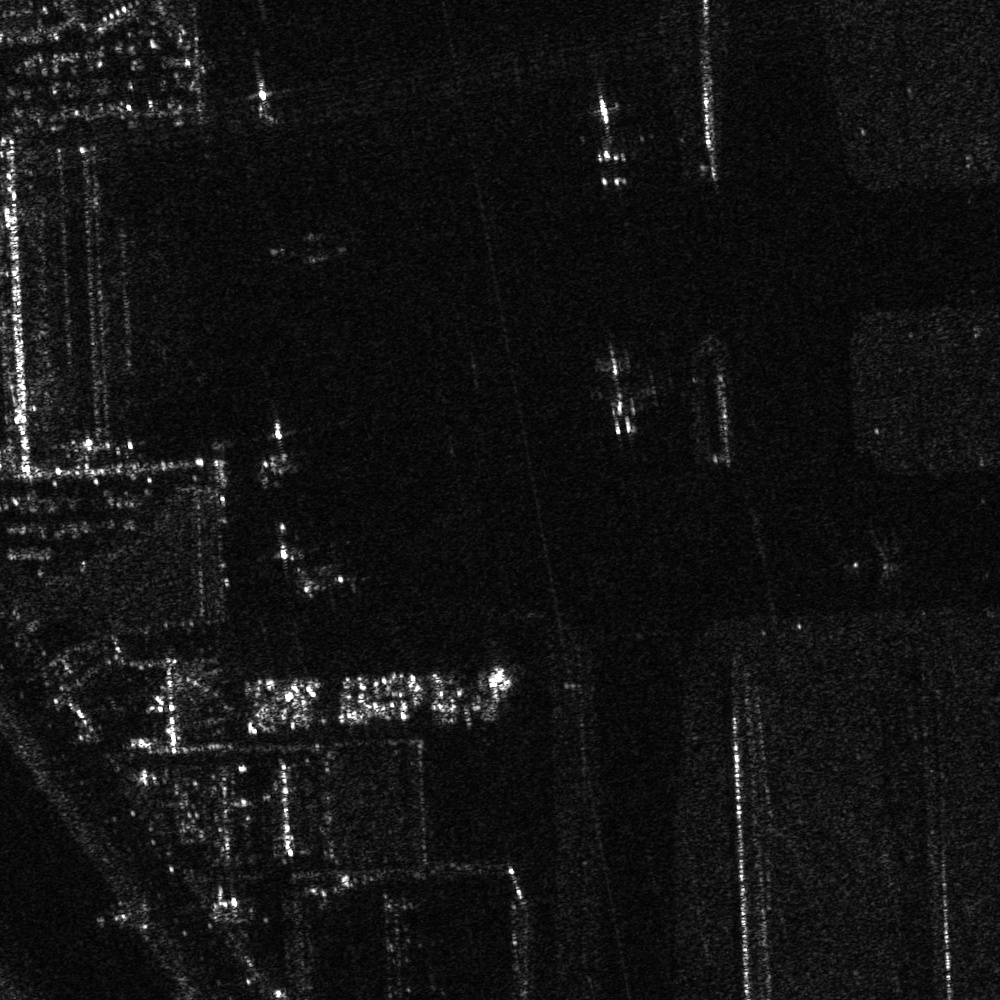A220: (236, 68, 291, 123), (250, 418, 302, 475), (261, 519, 307, 573)
other: (561, 351, 675, 435), (564, 91, 648, 187), (283, 569, 349, 603)
